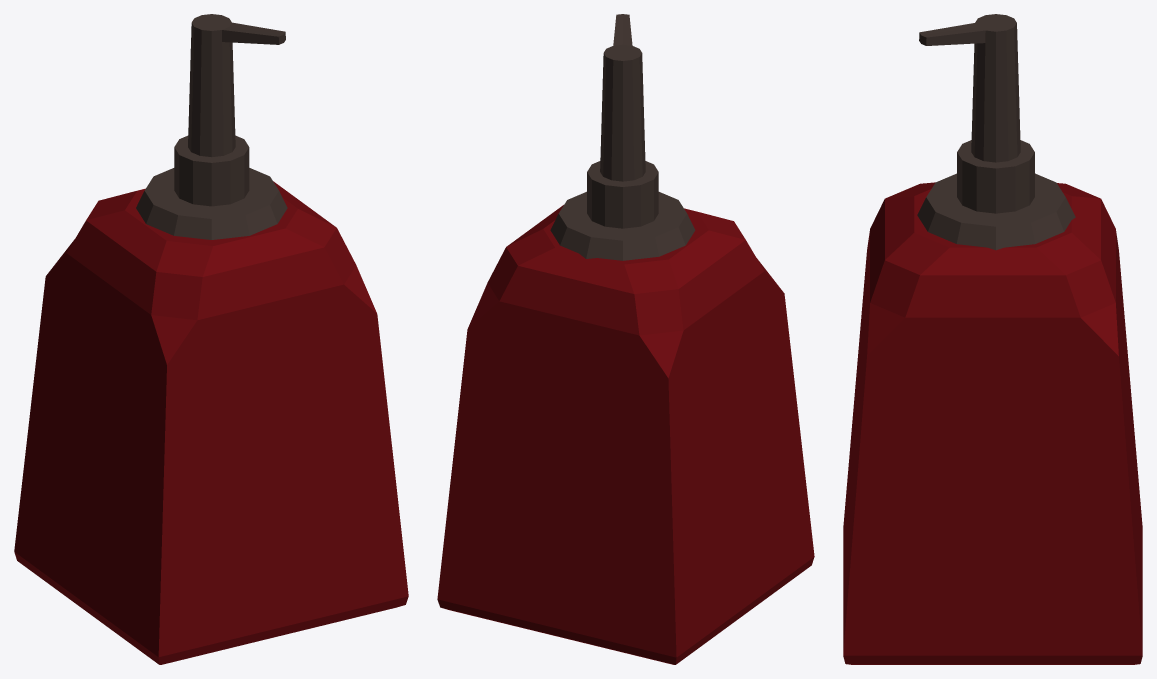
The model's file is soap dispenser.fbx.
3 views of the same model, side by side, from view 1: azimuth 30°, elevation 25°; view 2: azimuth 150°, elevation 25°; view 3: azimuth 270°, elevation 25° (orthographic). The views are drawn at different scales.
Parts seen in each view (by area): view 1: Cube; view 2: Cube; view 3: Cube.
Part boxes in pixels (x1=…): Cube: x1=14, y1=14, x2=408, y2=664; Cube: x1=437, y1=14, x2=814, y2=664; Cube: x1=843, y1=14, x2=1142, y2=664.
Bounding box in the file's own units: 246 × 534 × 246.
